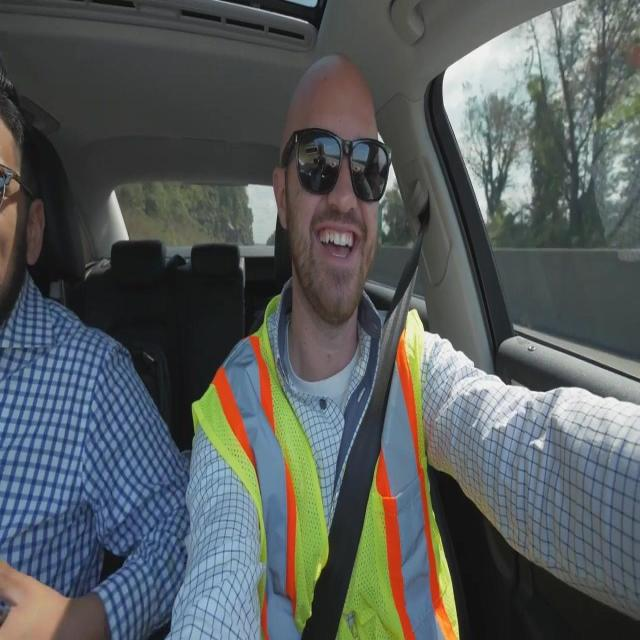Vest: (187, 293, 459, 639)
